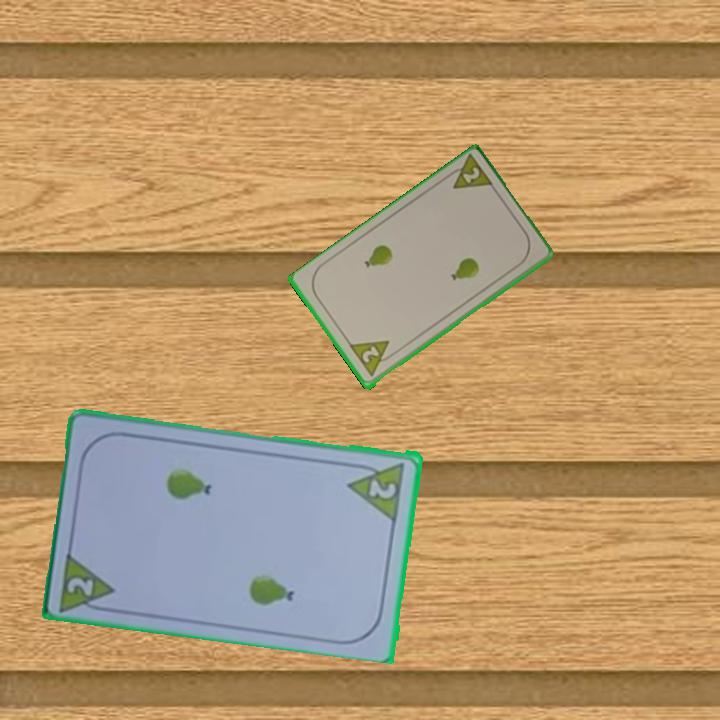2p: (441, 152, 497, 193), (366, 476, 400, 502), (63, 573, 97, 599), (358, 343, 382, 366)
